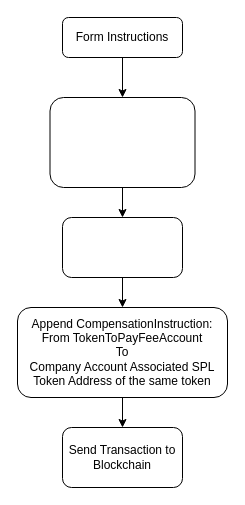
This 245x505 diagram has some shape labels left out. Here are the shapes that lost their labels. From the top down, the centre of each, then its label:
At (x=122, y=142): "Get ExchangeRate from CoinGekco And Calculate Needed SPL Token Amount to pay fee".
At (x=122, y=247): "Change Fee Payer from User to Company's Account".
